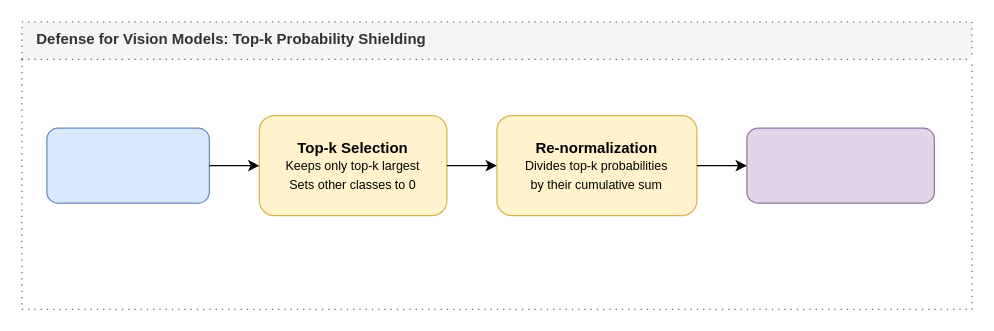
Some shapes in this 994 by 331 pixel diagram are drawn without their labels. Each missing label, with the centre of its shape:
"Raw Probabilities p = [p_1, ..., p_C]" belongs at point 127,165.
"Shielded Probabilities Boundary info masked Utility preserved" belongs at point 840,165.
